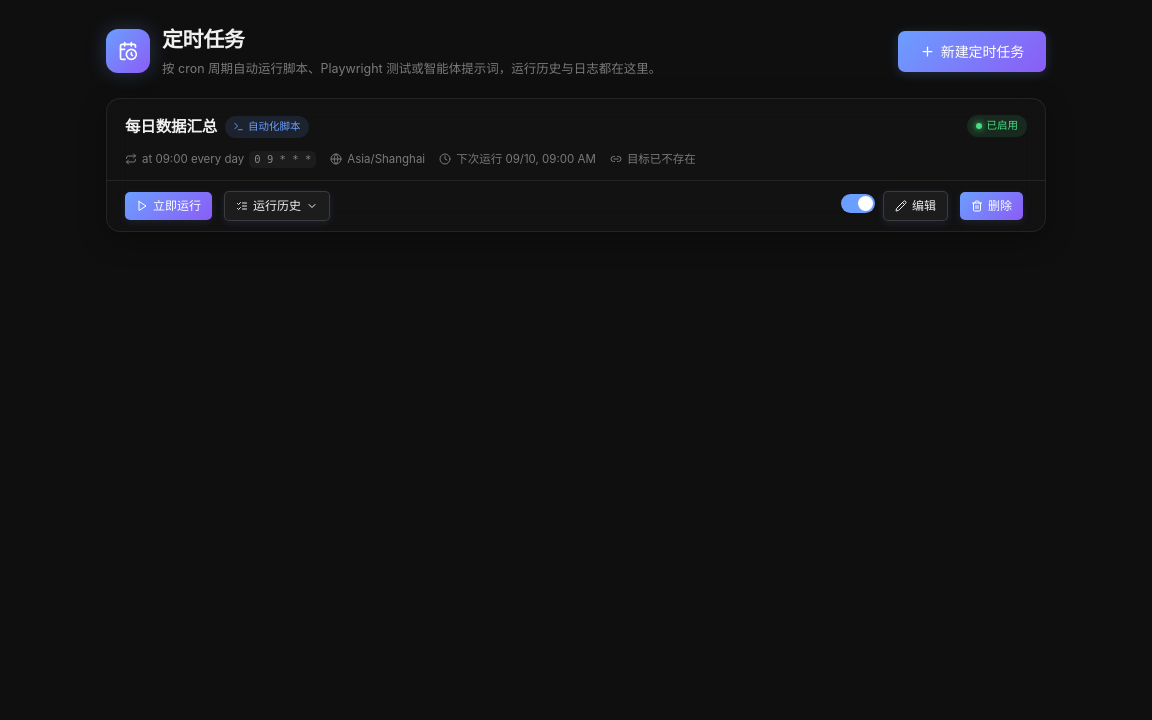
Test: SchedulesPage › shows the verdict and artifacts of a scheduled run in the log drawer
Click the button "运行历史" at (277, 206), box [224,191,330,221]
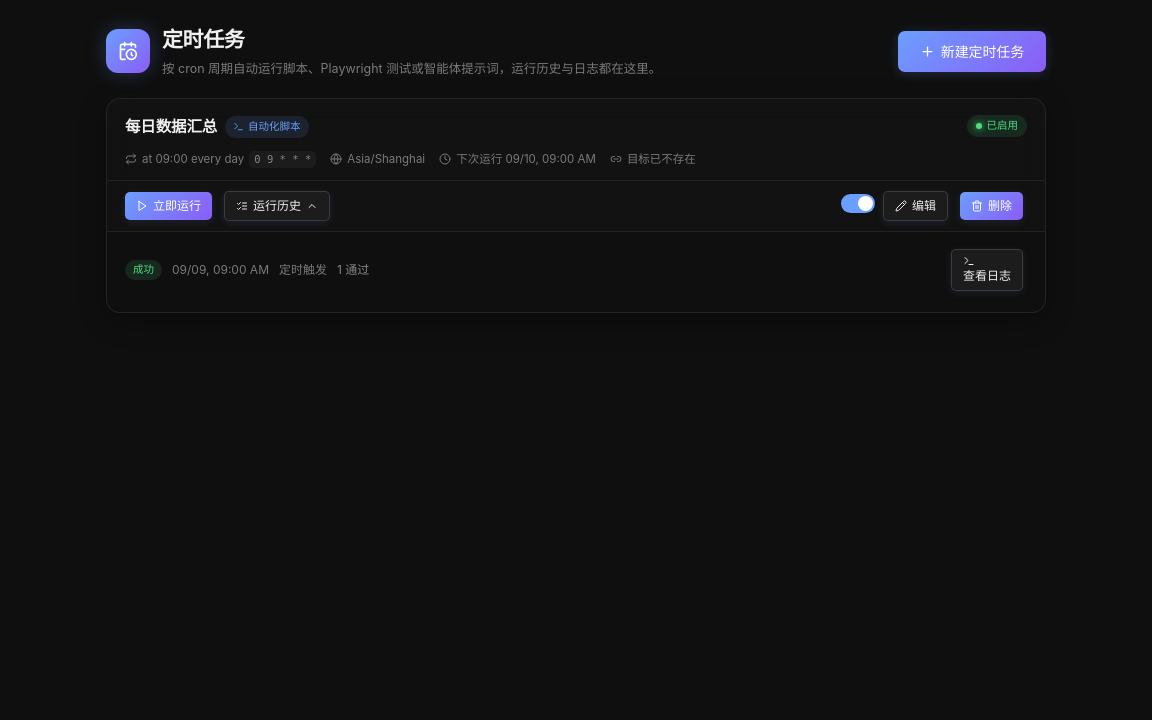
Click the button "查看日志" at (987, 270), box [951,249,1023,291]
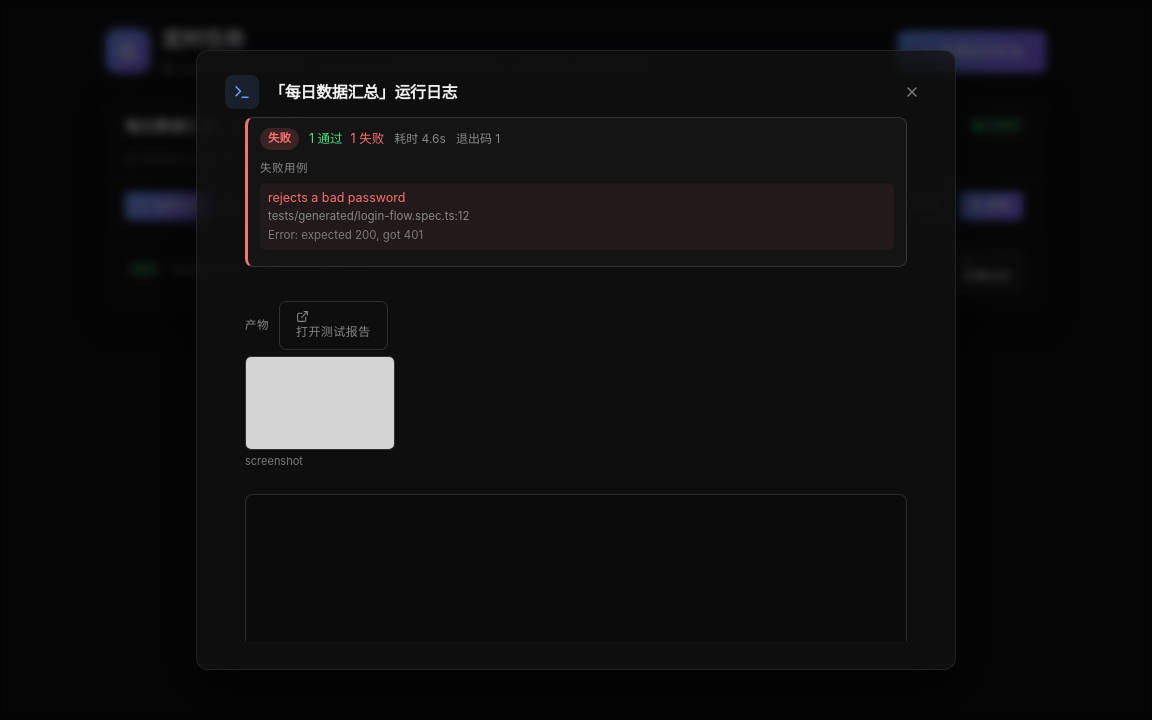
expect the element with class "run-result-card" shows "1 失败": met, box [351,131,384,146]
expect the text with class "run-failure-title" reads "rejects a bad password": met, box [268,190,406,205]
